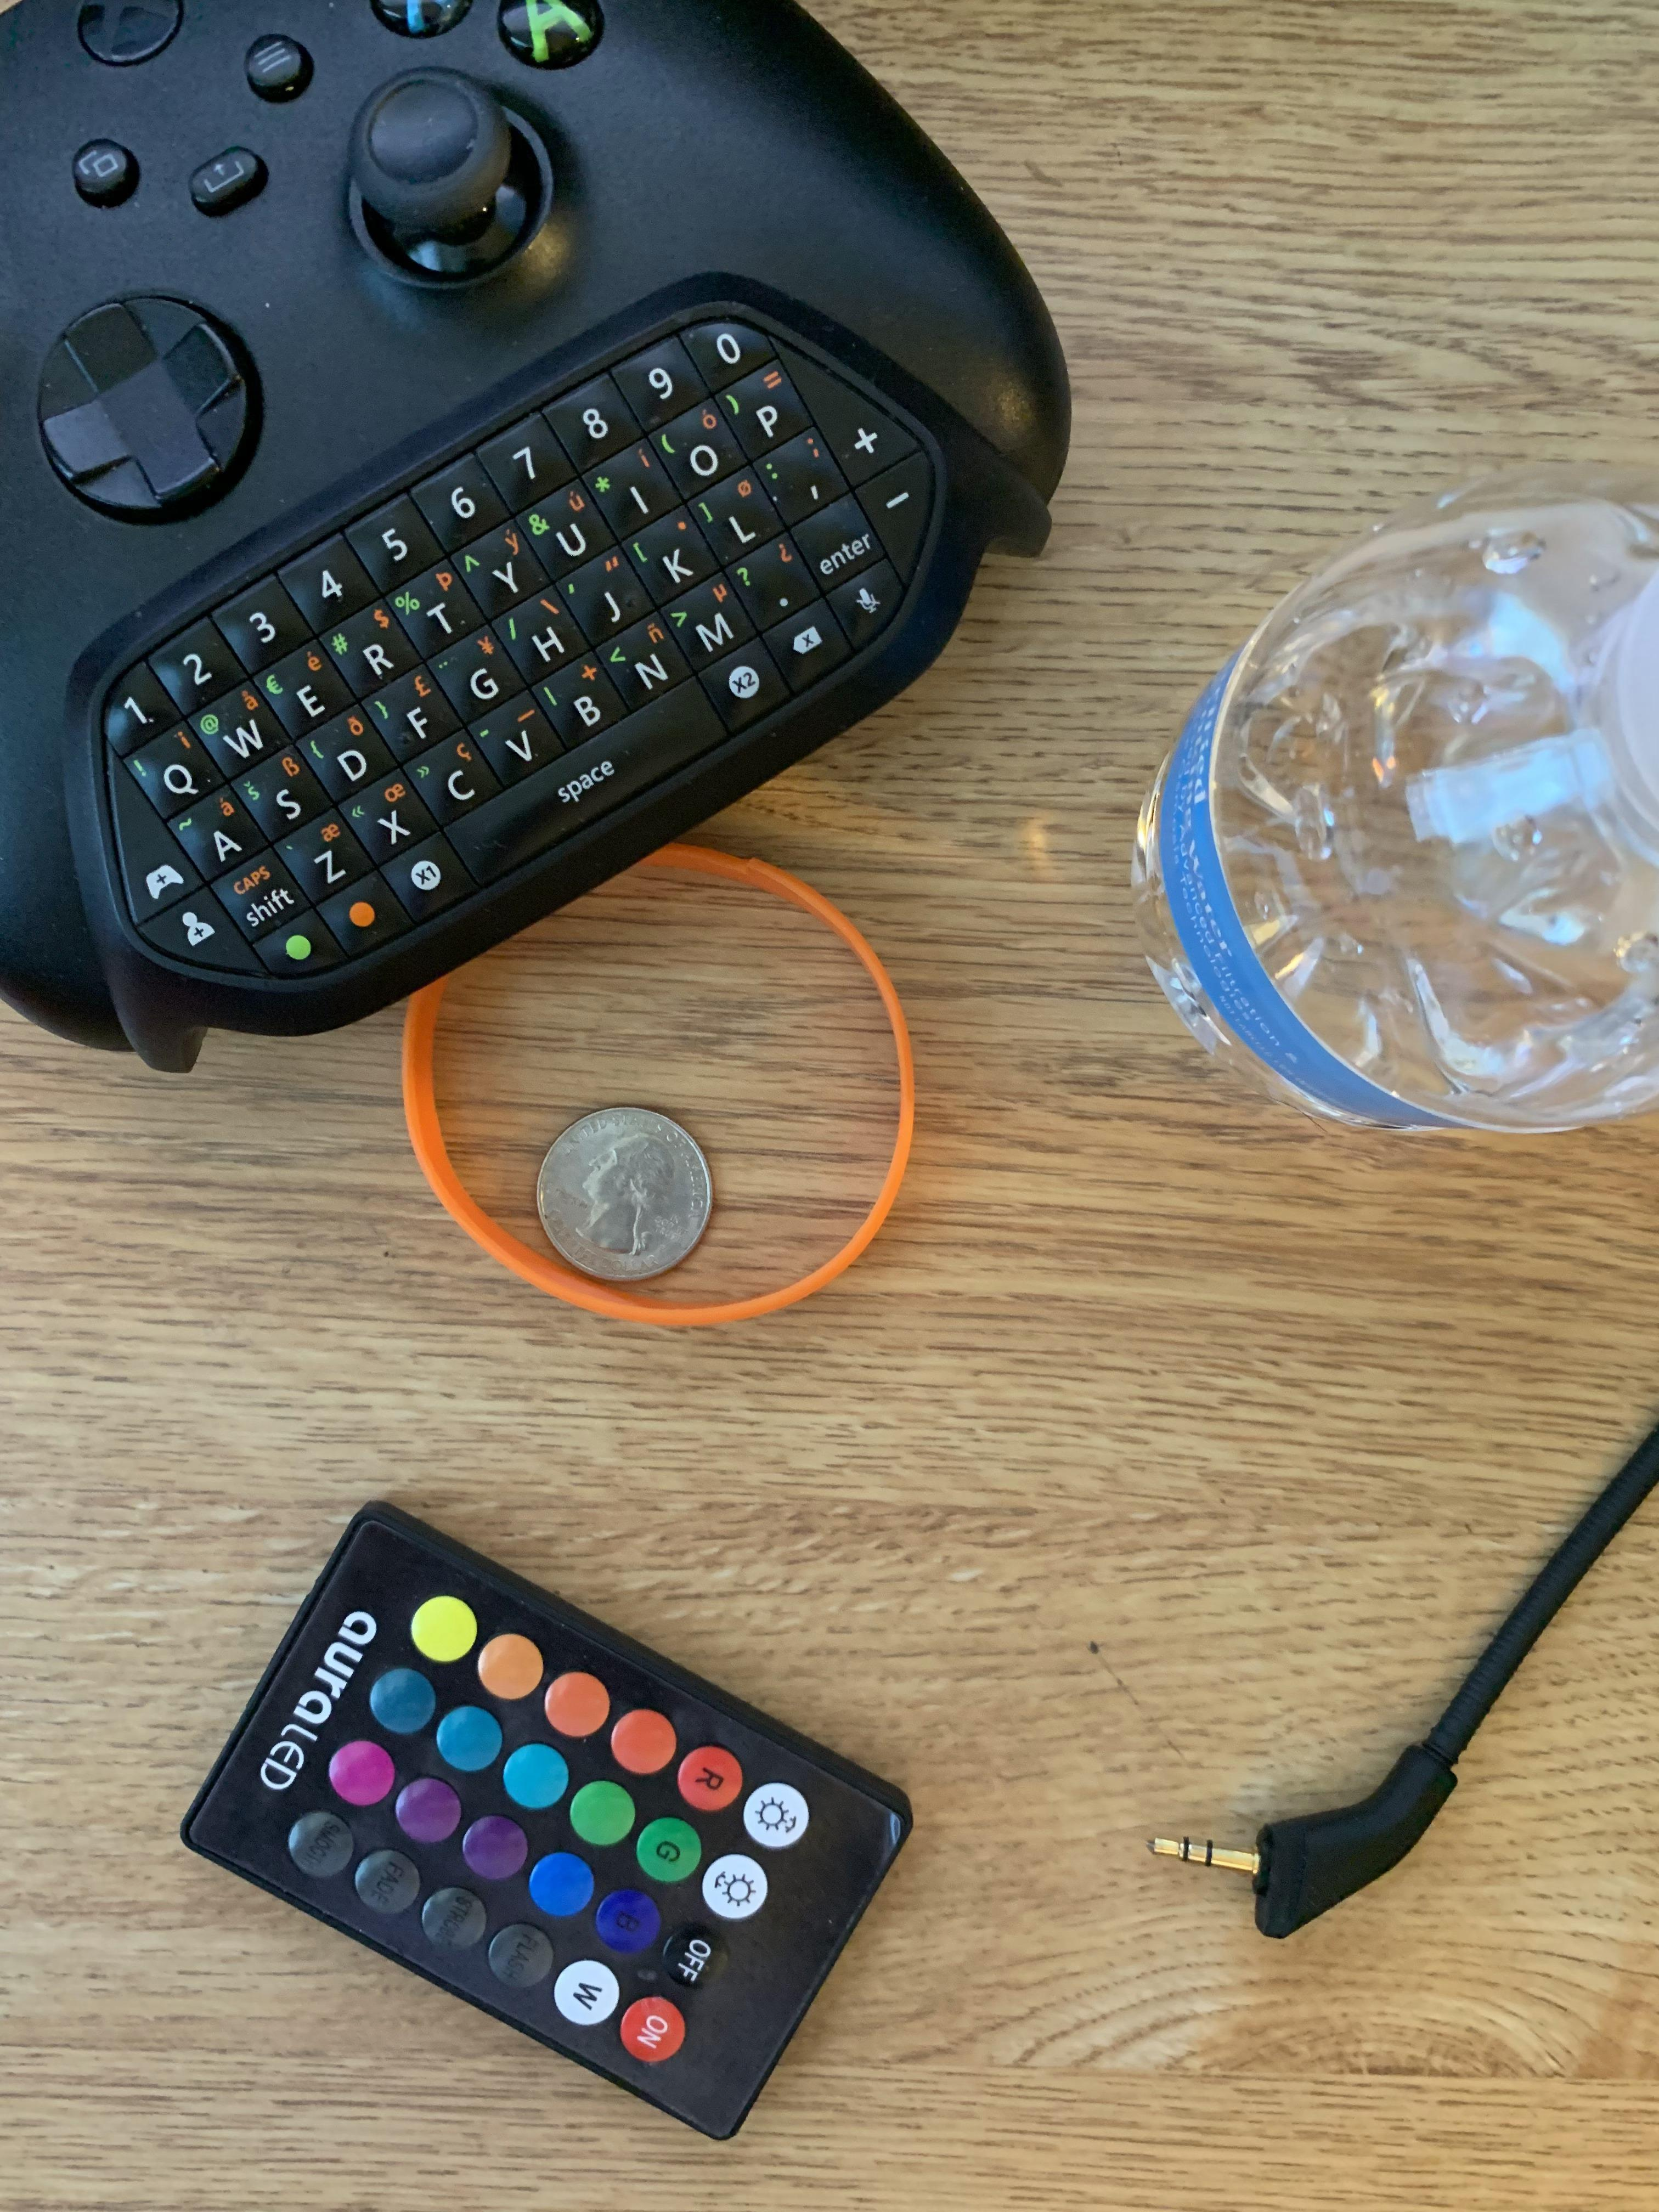Quarter: (526, 1101, 720, 1282)
